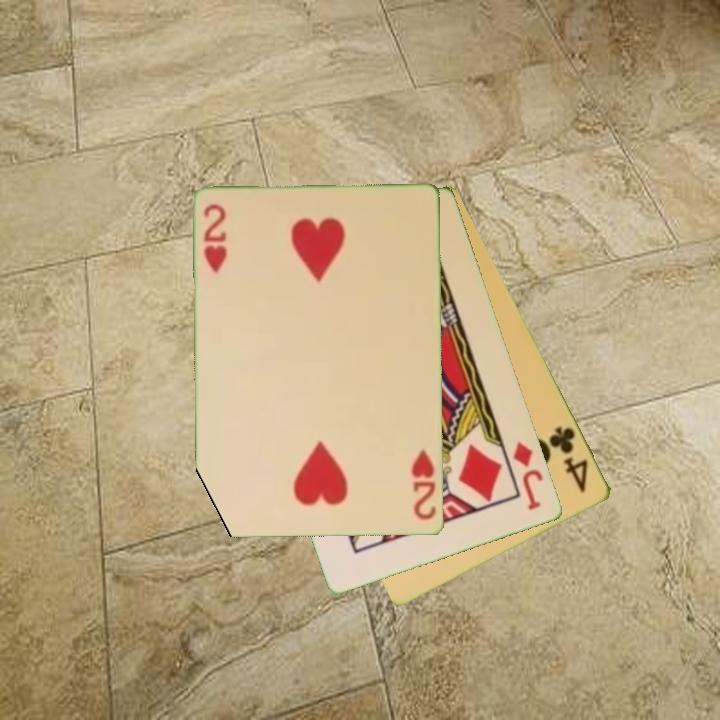2h: (408, 446, 440, 523), (200, 201, 231, 276)
4c: (545, 423, 592, 496)
Jd: (510, 438, 547, 514)
